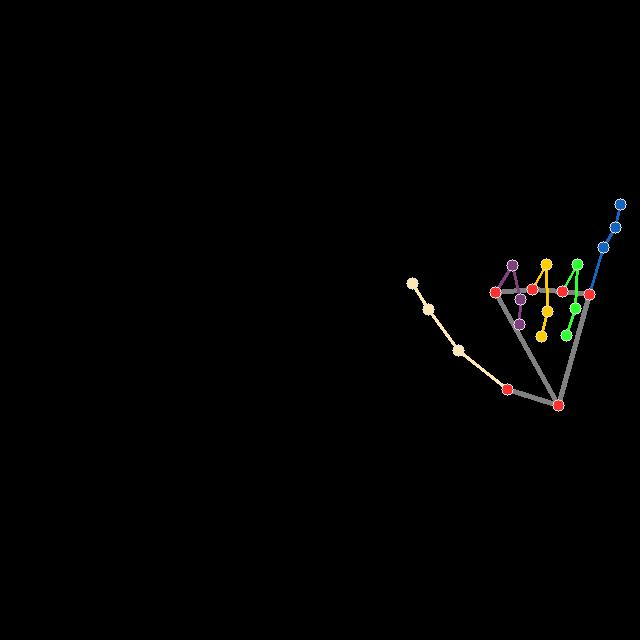skr: (404, 196, 627, 413)
